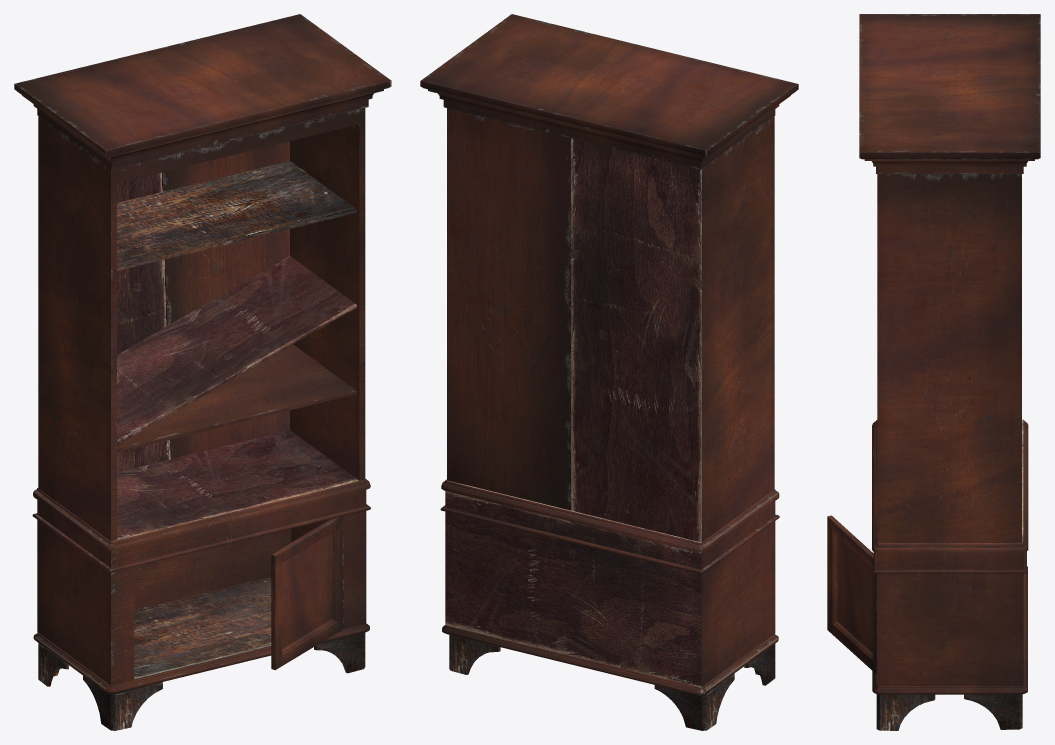
File: Shkaf.FBX
3 renders of one model, left to right at view 1: azimuth 30°, elevation 25°; view 2: azimuth 150°, elevation 25°; view 3: azimuth 270°, elevation 25°, orthographic.
Visible parts, largest first — view 1: Shkaf, shkafDoor; view 2: Shkaf; view 3: Shkaf, shkafDoor.
Boxes of the visible parts, x1=… form: Shkaf: x1=14, y1=14, x2=391, y2=730; shkafDoor: x1=271, y1=516, x2=343, y2=670; Shkaf: x1=420, y1=14, x2=798, y2=730; Shkaf: x1=859, y1=14, x2=1040, y2=730; shkafDoor: x1=827, y1=515, x2=876, y2=674.
Size of the model in its own units: 0.9651 by 1.9 by 0.6276.
